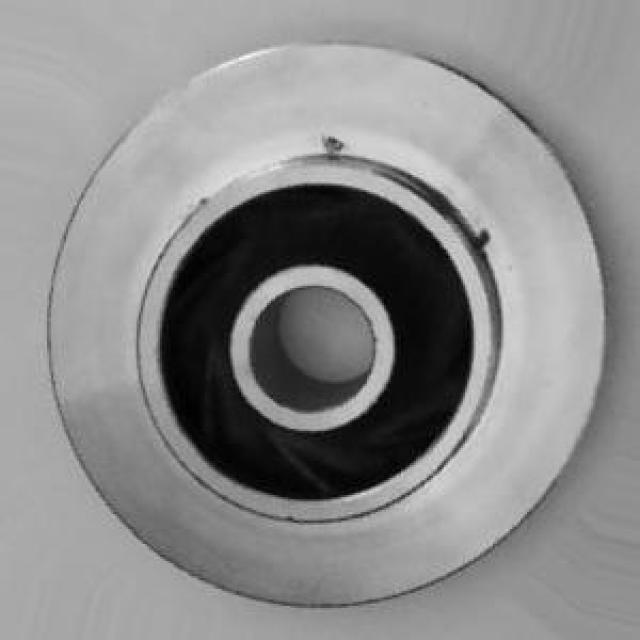Defect: (305, 126, 361, 170)
